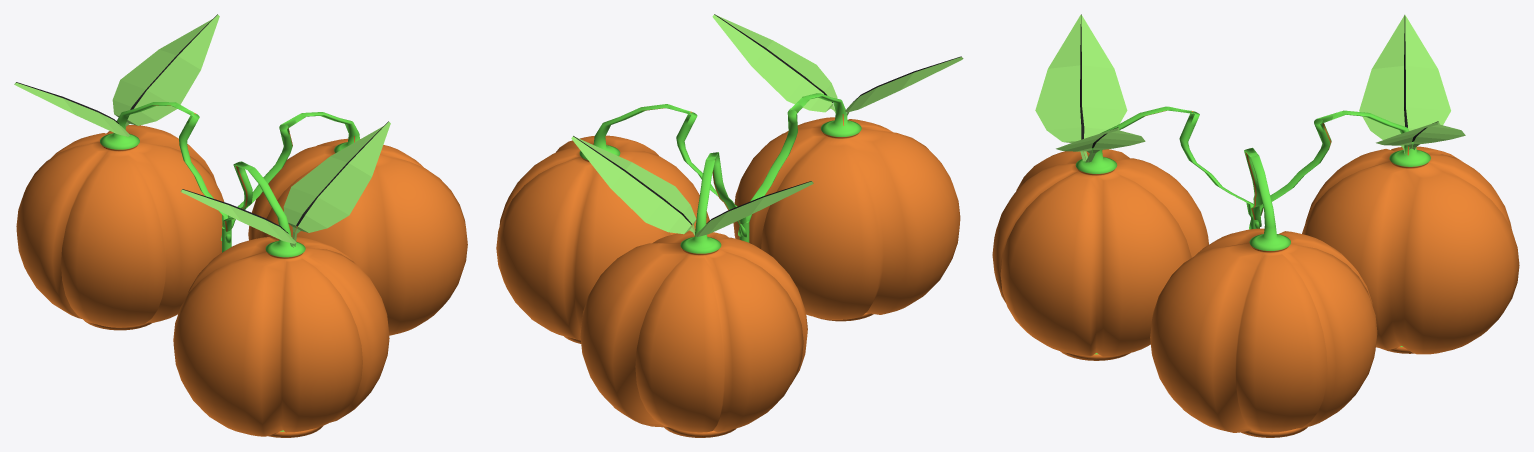
File: squash.fbx
3 renders of one model, left to right at view 1: azimuth 30°, elevation 25°; view 2: azimuth 150°, elevation 25°; view 3: azimuth 270°, elevation 25°, orthographic. The views are drawn at different scales.
Parts seen in each view (by area): view 1: Sphere, Sphere.001, Sphere.002; view 2: Sphere.001, Sphere, Sphere.002; view 3: Sphere, Sphere.001, Sphere.002.
Part boxes in pixels (x1,y1,x2,y2): Sphere: [173, 121, 390, 437]; Sphere.001: [14, 14, 230, 330]; Sphere.002: [221, 112, 467, 335]; Sphere.001: [571, 136, 813, 437]; Sphere: [712, 14, 963, 321]; Sphere.002: [496, 104, 746, 343]; Sphere: [992, 14, 1259, 360]; Sphere.001: [1249, 15, 1519, 354]; Sphere.002: [1150, 147, 1377, 437].
Bounding box in the file's own units: 442 × 330 × 539.
